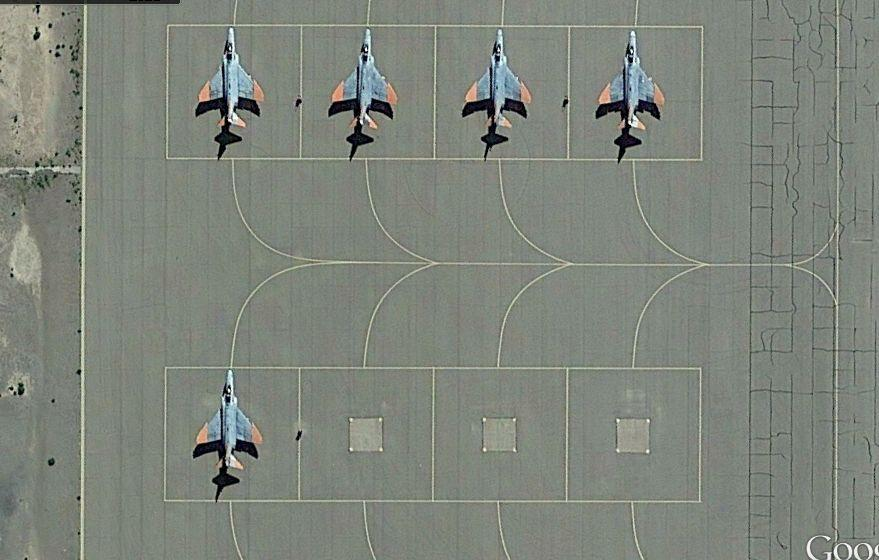plane: (596, 22, 673, 136), (194, 23, 269, 140), (462, 26, 536, 138), (191, 368, 265, 475), (332, 25, 400, 135)
